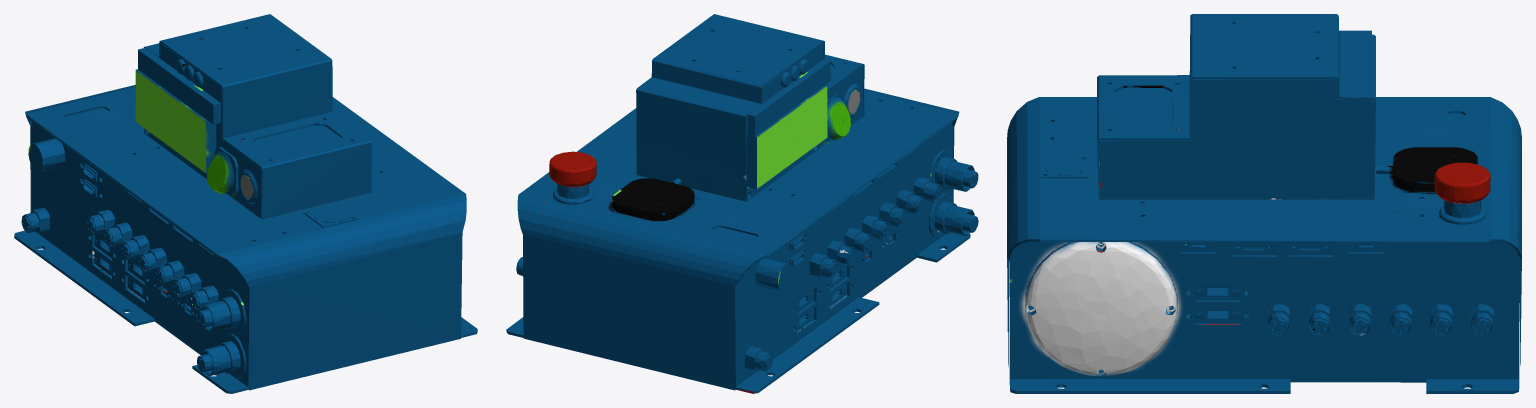
File: marv_top_box.dae
3 views of the same model, side by side, from view 1: azimuth 30°, elevation 25°; view 2: azimuth 150°, elevation 25°; view 3: azimuth 270°, elevation 25° (orthographic). The views are drawn at different scales.
Parts seen in each view (by area): view 1: marv_top_box; view 2: marv_top_box; view 3: marv_top_box.
Part boxes in pixels (bbox=[...]): marv_top_box: bbox=[14, 14, 477, 393]; marv_top_box: bbox=[506, 14, 978, 393]; marv_top_box: bbox=[1007, 14, 1521, 393].
Size of the model in its own units: 0.2138 by 0.3041 by 0.18.
1 material, 1 textured.
